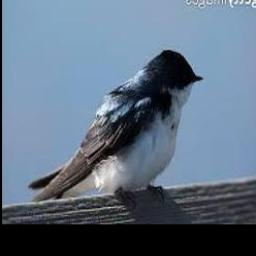Swallow: (28, 50, 203, 203)
